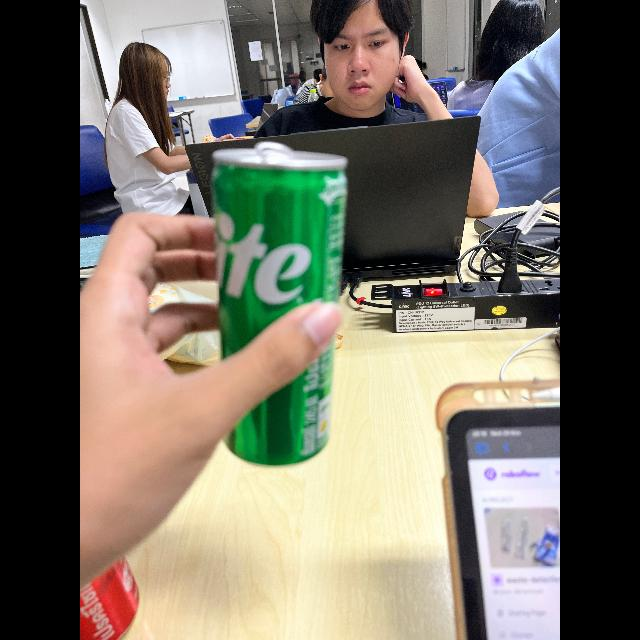can: (201, 128, 359, 482)
